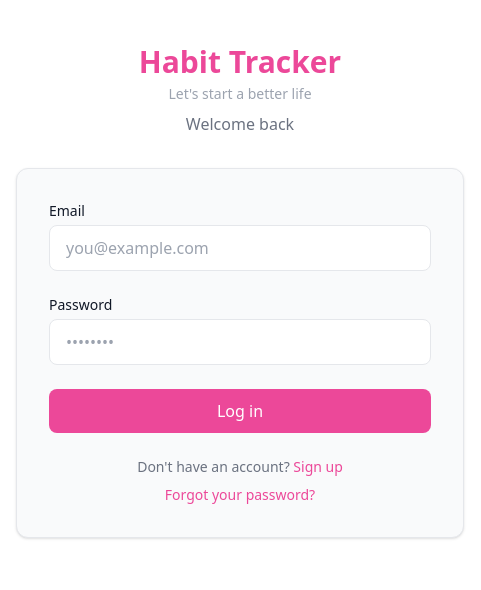
Scenario: LoginPage › shows error on failed login attempt
Step 1. Type "test@example.com" into the field labelled "Email" → (240, 248), box [49, 225, 431, 271]
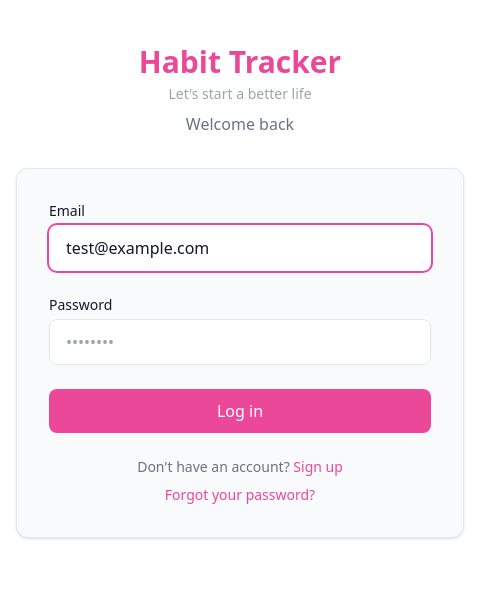
Step 2. Type "wrongpassword" into the password field labelled "Password" → (240, 342), box [49, 319, 431, 365]
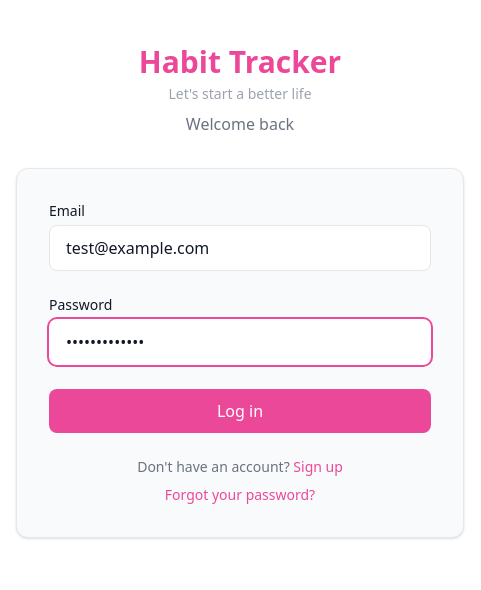
Step 3. Click the button "Log in" → click(240, 411), box [49, 389, 431, 433]
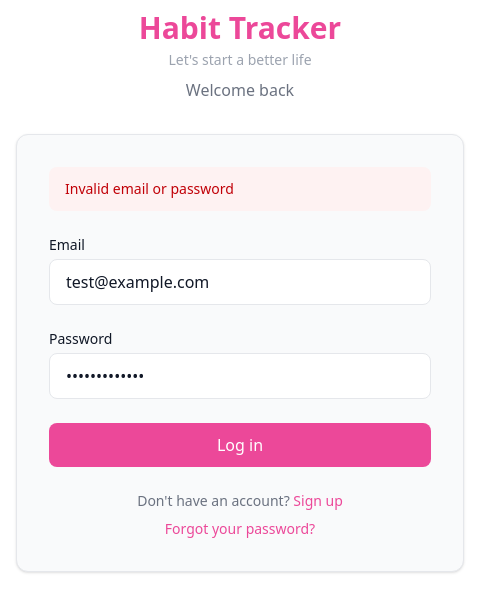
Result: the text "Invalid email or password" is shown at [49, 167, 431, 211]
